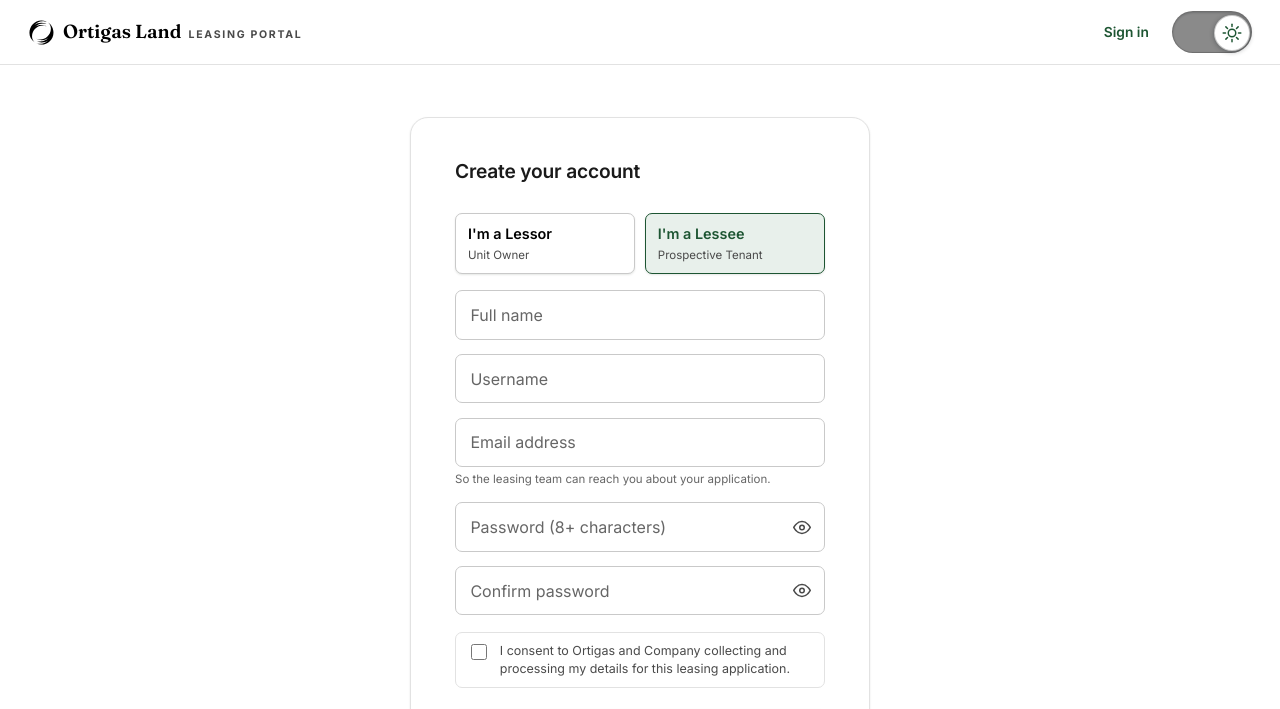
Scenario: SignupView › requires 8+ characters, not 6
Type "Ana Reyes" into the field with id "name" at (640, 315), box [455, 290, 825, 340]
Type "ana.reyes" into the field with id "username" at (640, 379), box [455, 354, 825, 403]
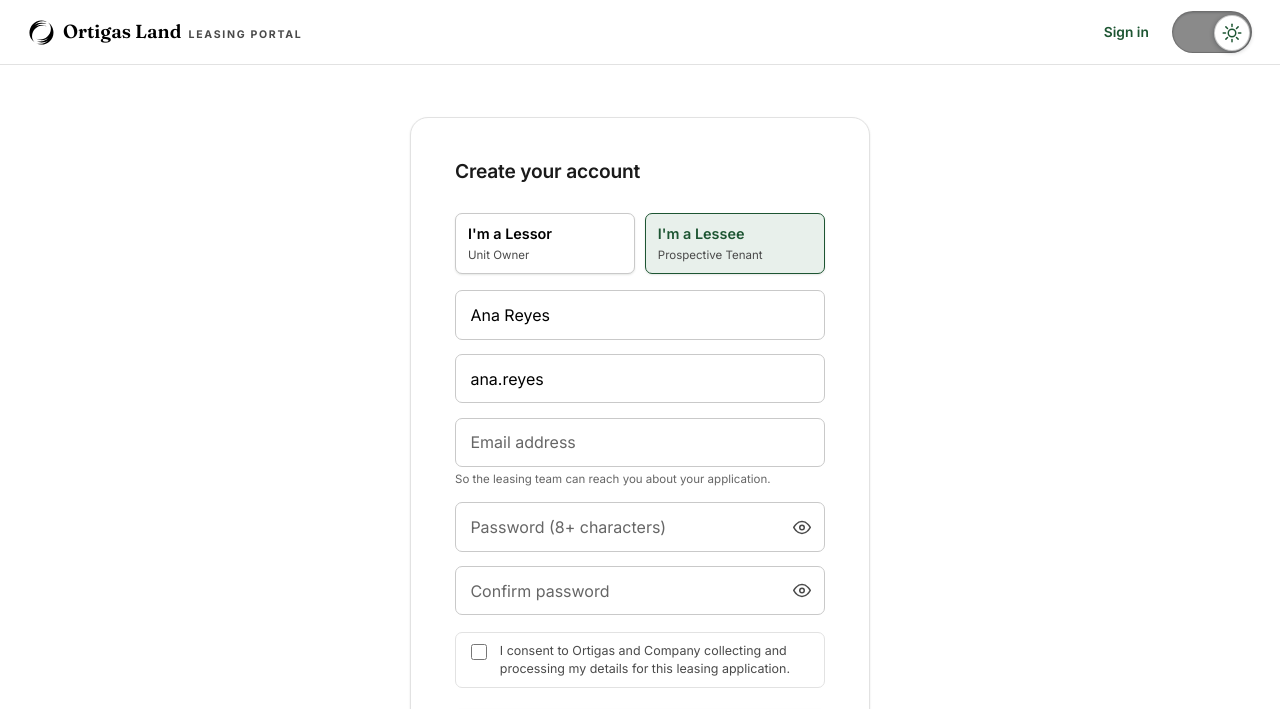
Type "ana@example.com" into the field with id "contactEmail" at (640, 442), box [455, 418, 825, 467]
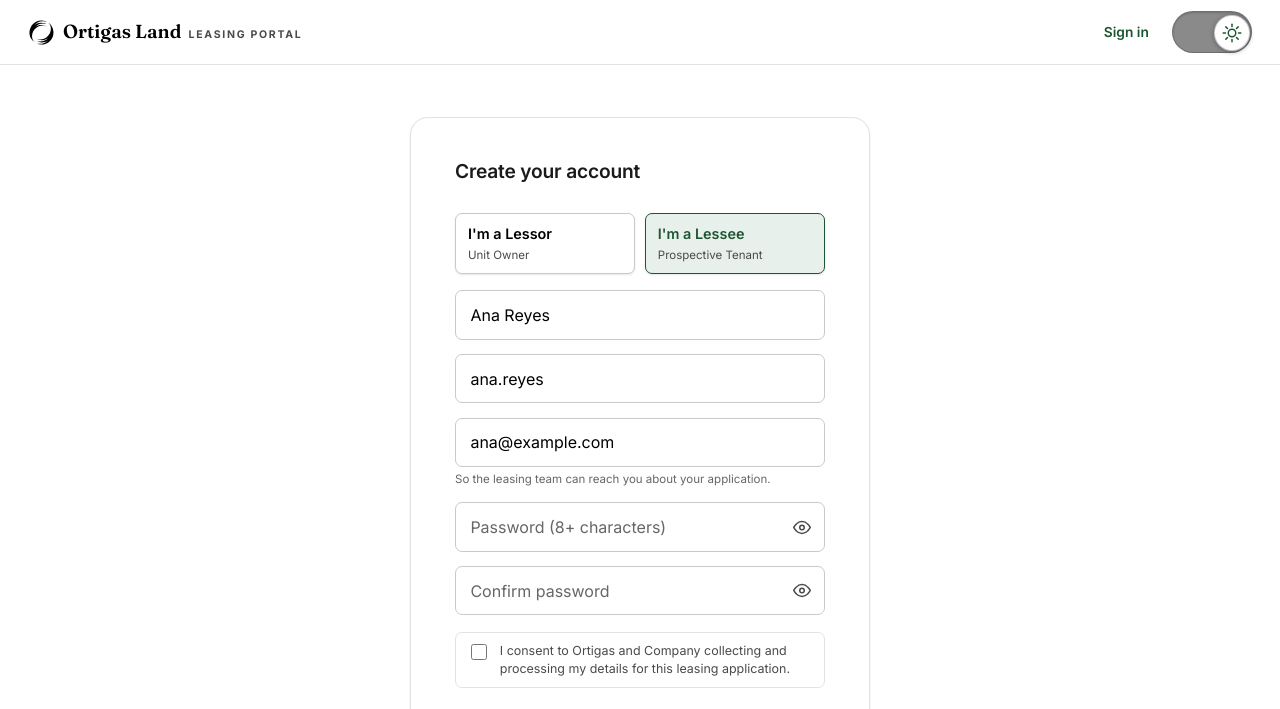
Type "short7!" into the password field with placeholder "Password (8+ characters)" at (640, 527), box [455, 502, 825, 552]
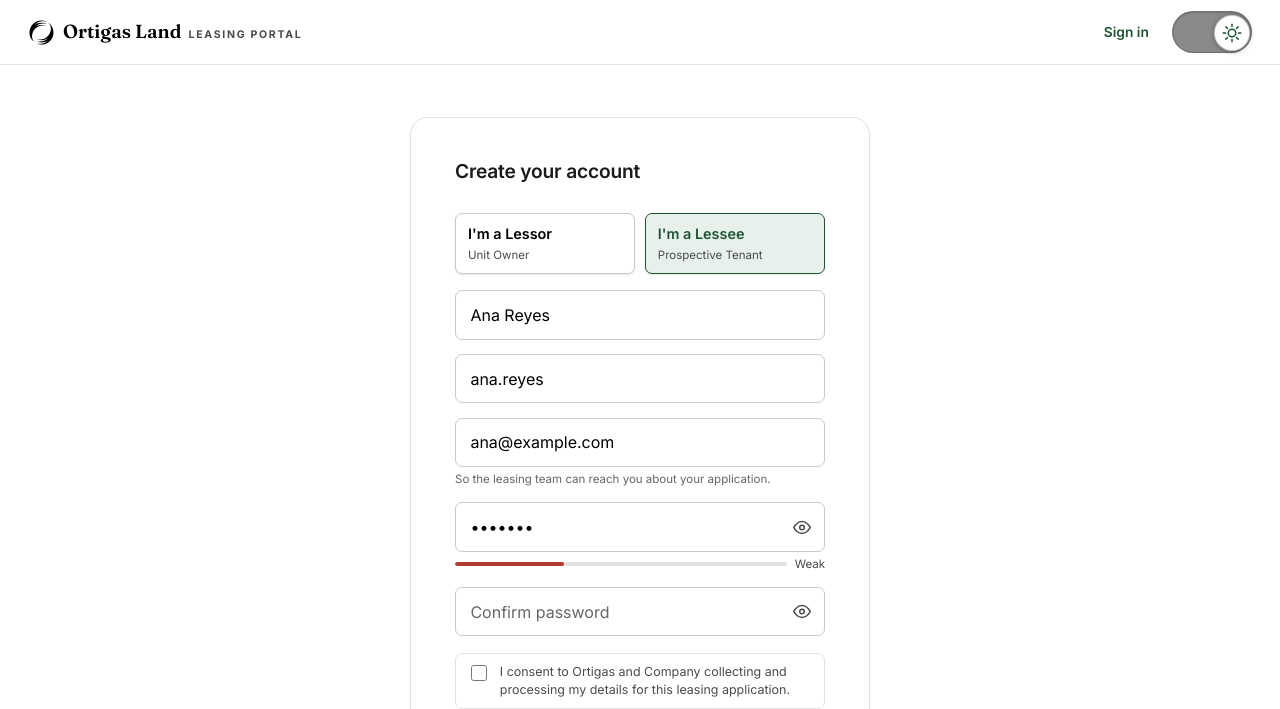
Type "short7!" into the password field with id "confirm" at (640, 612), box [455, 587, 825, 636]
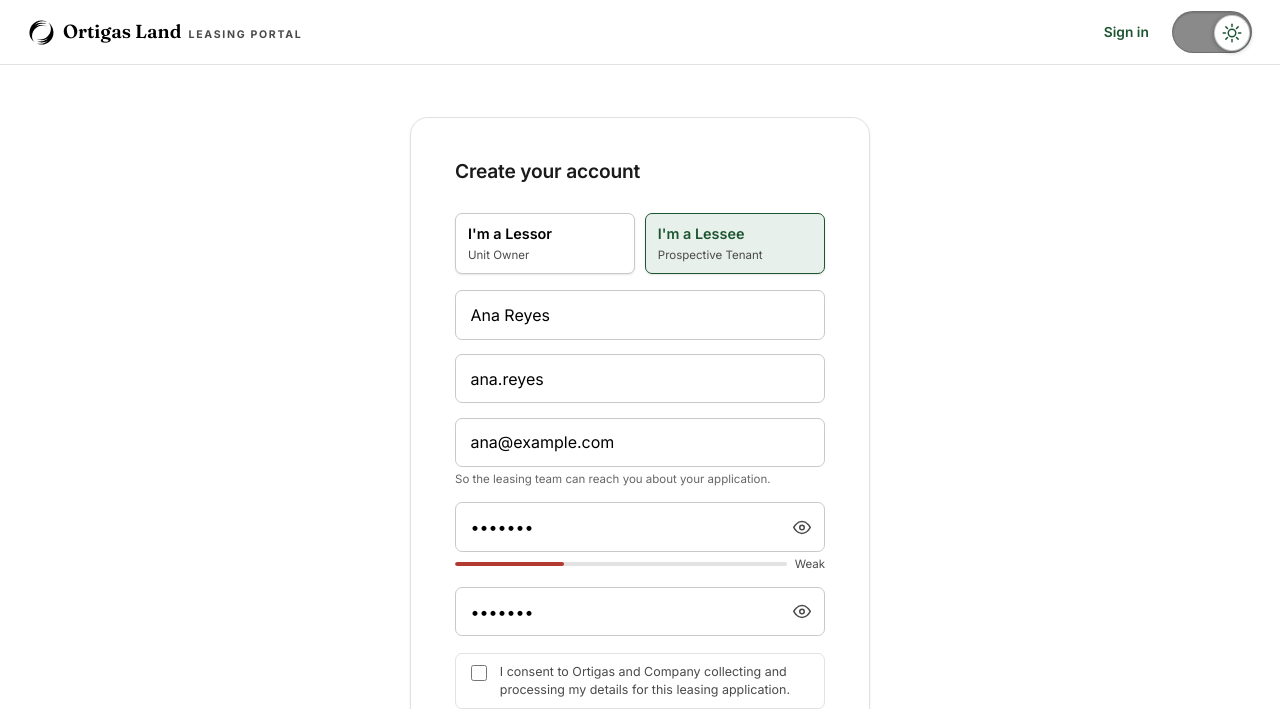
Click the checkbox with id "consent" at (479, 673), box [471, 665, 487, 681]
(page scrolled)
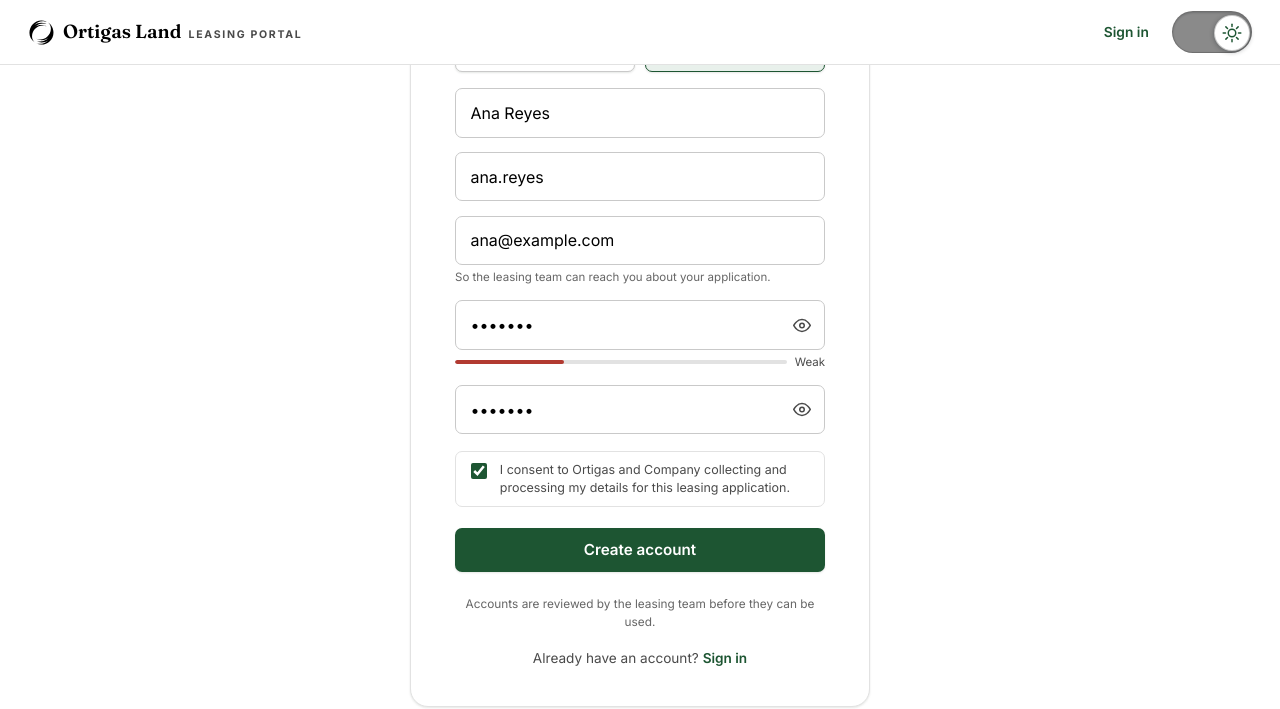
Submit the form, box [455, 528, 825, 629]
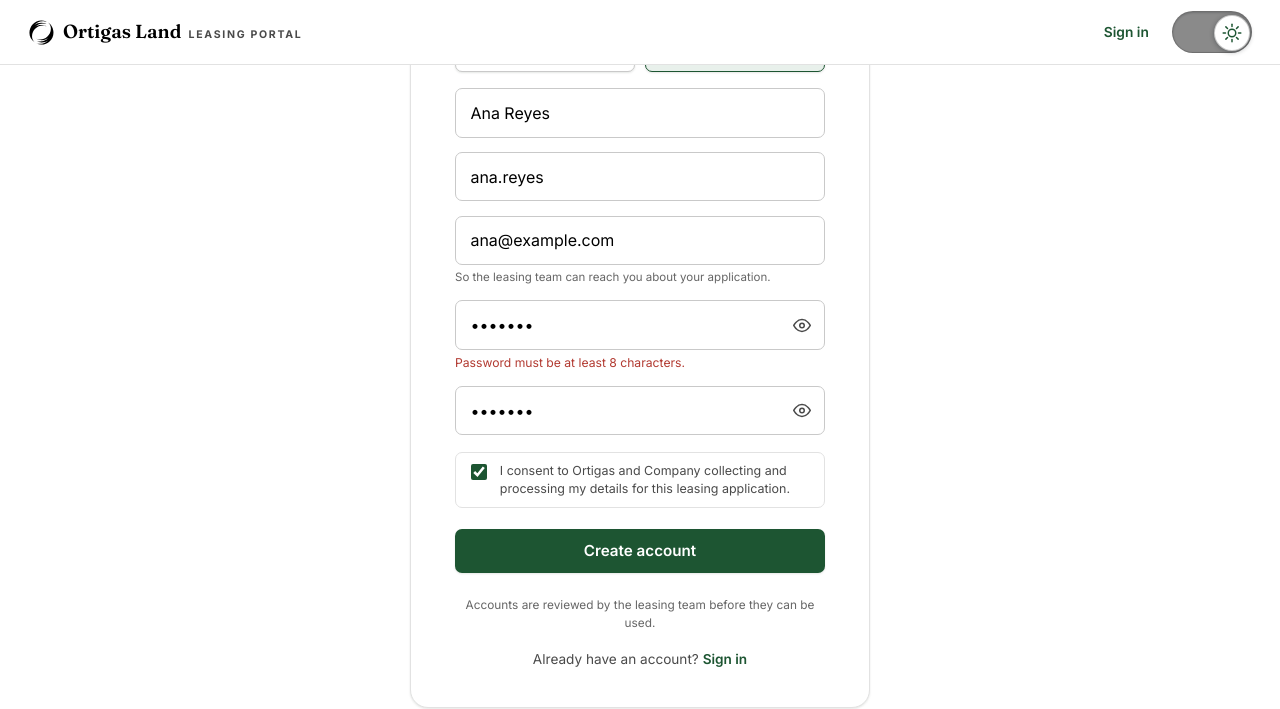
Expected: the text "at least 8 characters" is shown, [455, 355, 685, 370]
